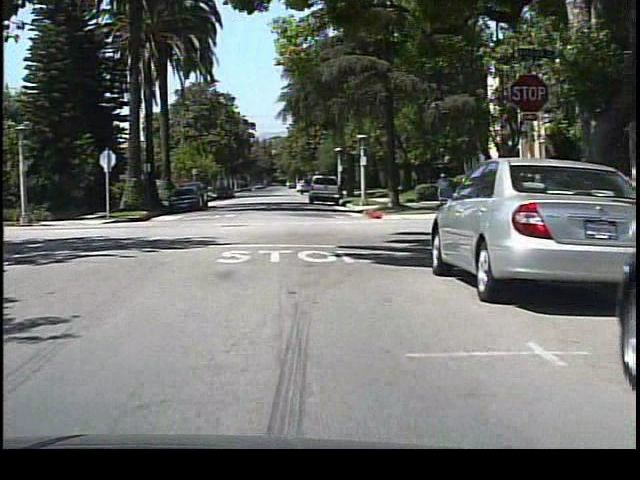person: (430, 166, 454, 213)
